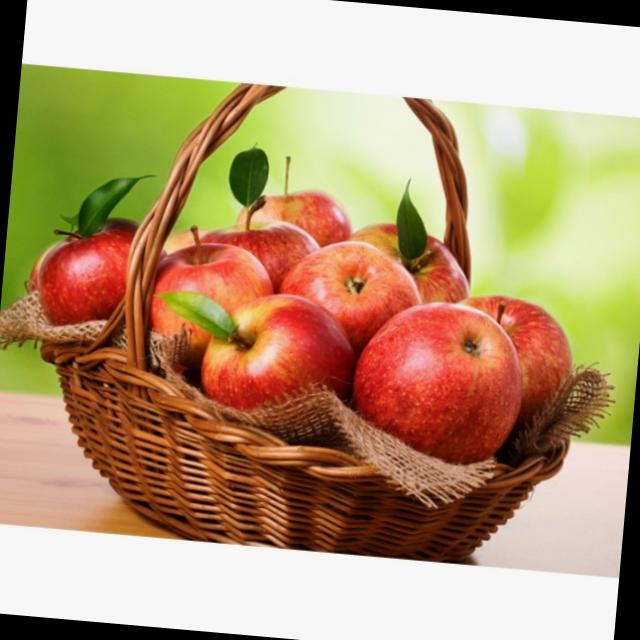apple: (341, 289, 530, 472), (185, 282, 364, 446), (422, 291, 587, 443), (27, 211, 172, 369)
